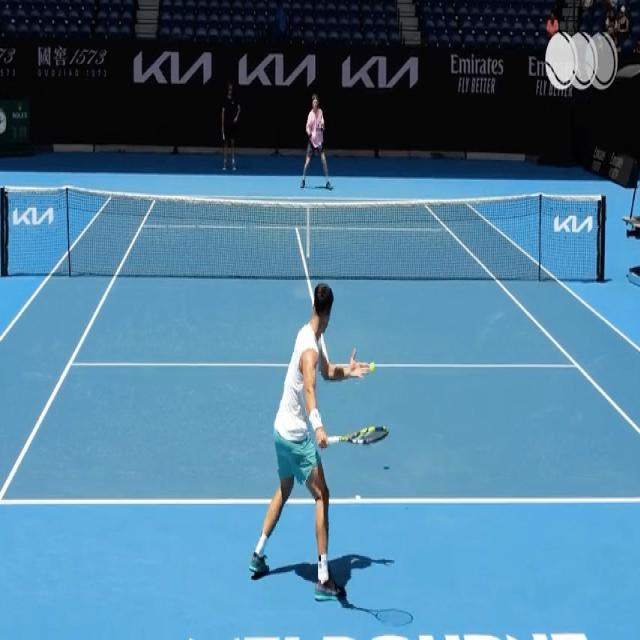forehand-ready: (251, 275, 385, 603)
